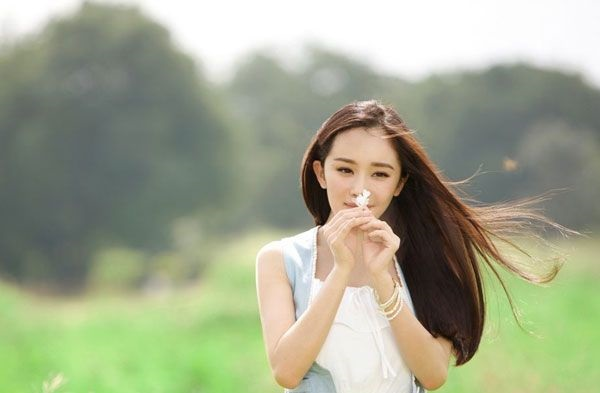face: (325, 135, 398, 225)
